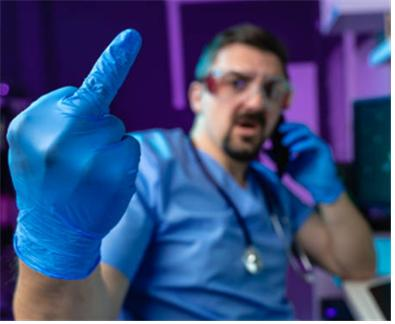insulting_gesture: (6, 26, 146, 241)
